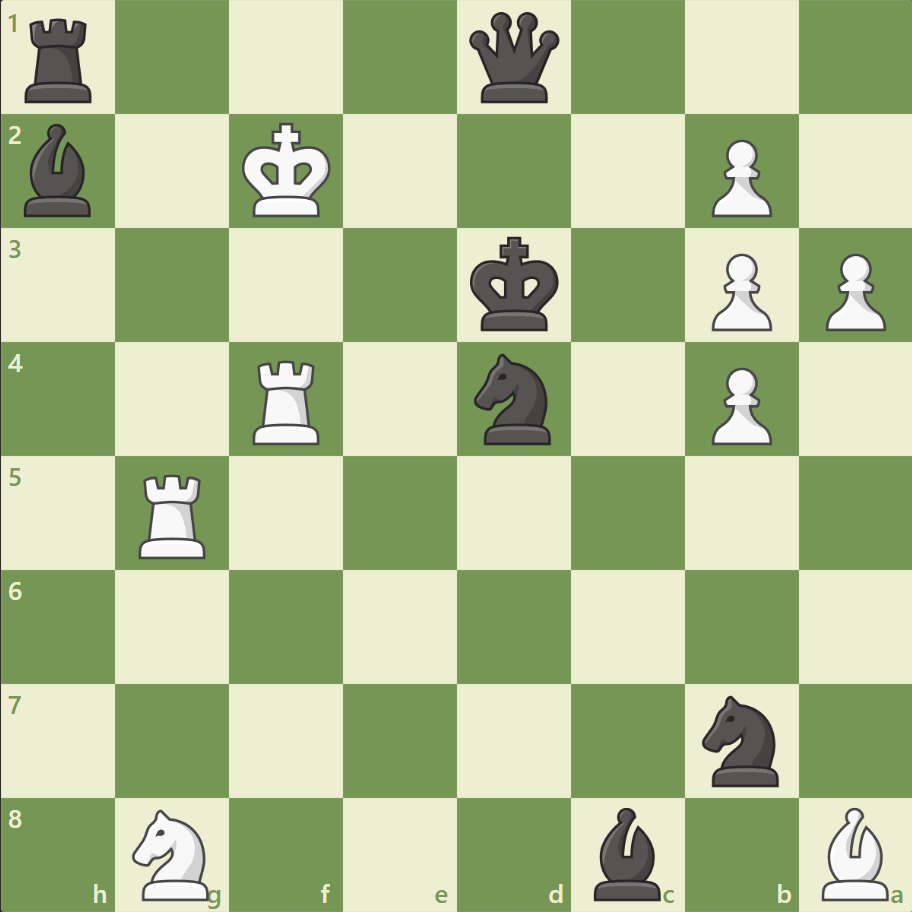B: (812, 801, 896, 904)
K: (238, 117, 338, 225)
N: (124, 802, 222, 904)
P: (701, 359, 776, 450), (701, 246, 776, 337), (701, 132, 776, 223), (815, 246, 889, 337)
R: (246, 352, 329, 449), (133, 466, 215, 563)
b: (585, 801, 669, 904), (17, 120, 101, 222)
k: (465, 231, 565, 339)
n: (692, 688, 789, 791), (465, 348, 562, 450)
q: (464, 9, 563, 108)
r: (19, 12, 102, 109)
